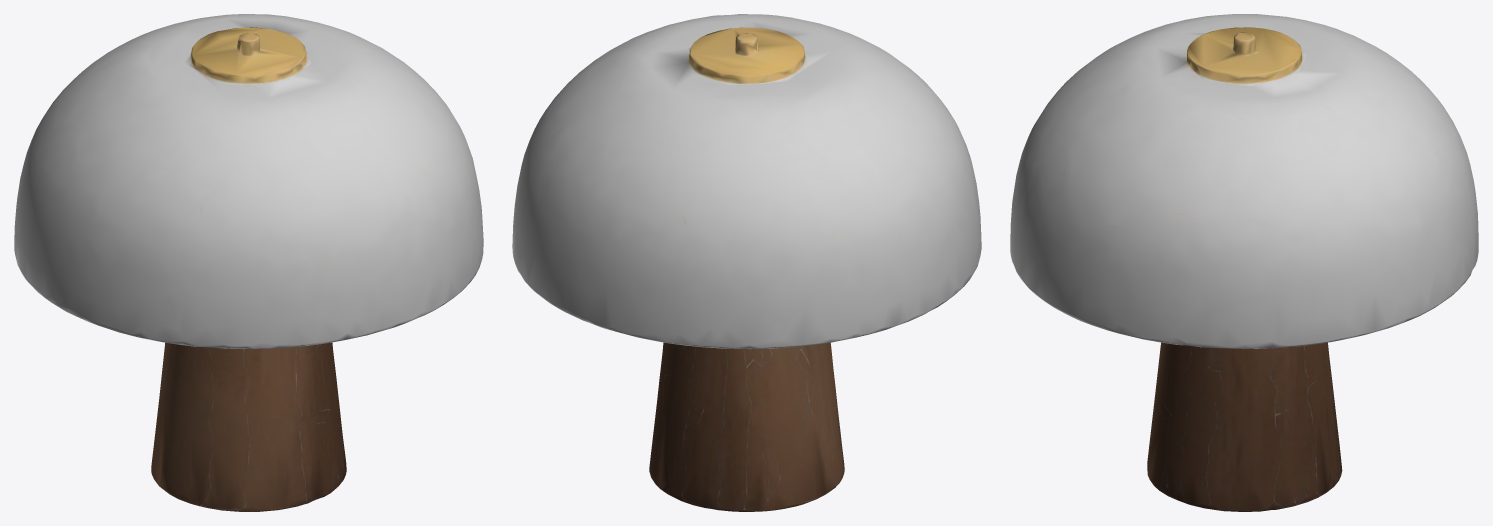
The model's file is linen-dome-table-lamp.glb.
The picture shows the model from 3 angles, left to right: view 1: azimuth 30°, elevation 25°; view 2: azimuth 150°, elevation 25°; view 3: azimuth 270°, elevation 25°; orthographic projection.
Parts seen in each view (by area): view 1: world; view 2: world; view 3: world.
Part boxes in pixels (bbox=[...]): world: bbox=[14, 14, 483, 511]; world: bbox=[512, 14, 981, 511]; world: bbox=[1010, 14, 1478, 511].
Size of the model in its own units: 0.9784 by 1 by 0.9775.
1 material, 1 textured.
